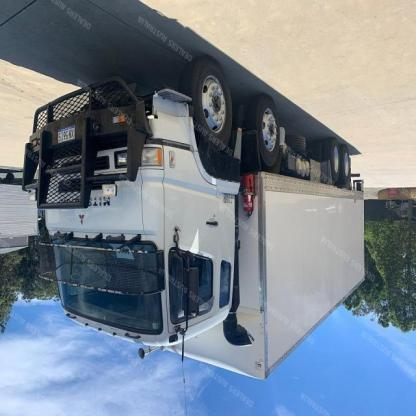truck: (22, 57, 365, 384)
